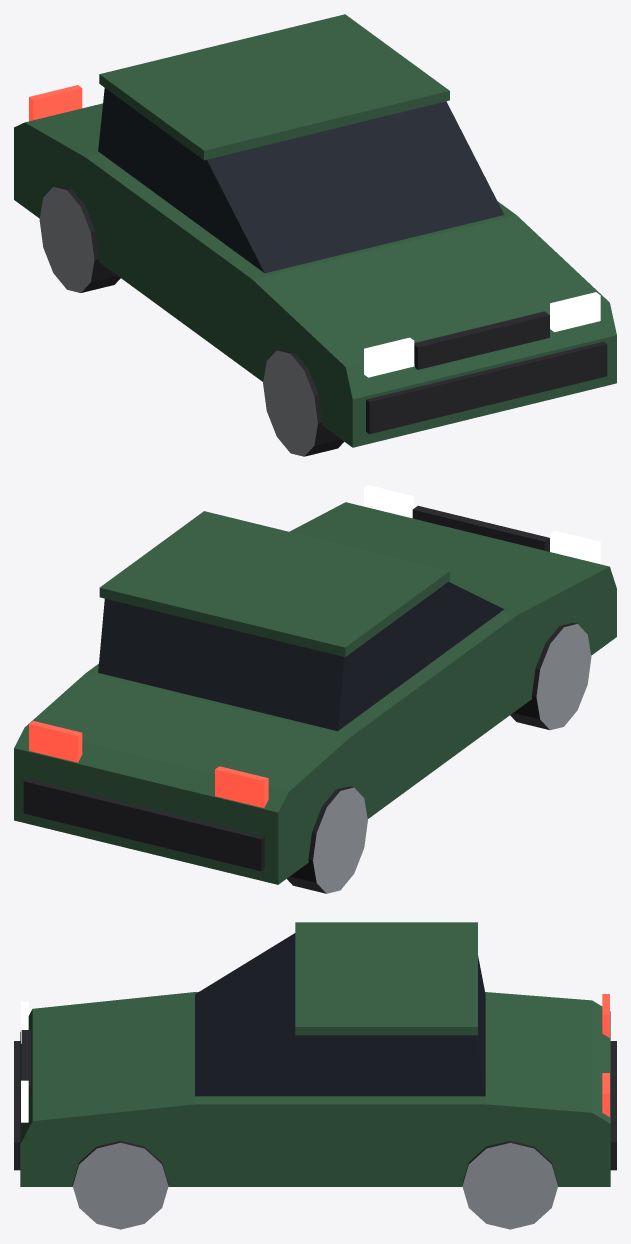
The model's file is hatchback.glb.
3 views of the same model, one above another, from view 1: azimuth 30°, elevation 25°; view 2: azimuth 150°, elevation 25°; view 3: azimuth 270°, elevation 25° (orthographic). The views are drawn at different scales.
Visible parts, largest first — view 1: hatchback, wheel_FR, wheel_RR; view 2: hatchback, wheel_RR, wheel_FR; view 3: hatchback, wheel_FL, wheel_RL.
Boxes of the visible parts, x1,y1,x2,y2 form: hatchback: (14, 14, 616, 447); wheel_FR: (263, 349, 343, 456); wheel_RR: (39, 185, 120, 292); hatchback: (14, 485, 616, 884); wheel_RR: (287, 786, 367, 893); wheel_FR: (510, 623, 591, 730); hatchback: (14, 922, 616, 1186); wheel_FL: (72, 1141, 168, 1229); wheel_RL: (462, 1141, 558, 1229).
Bounding box in the file's own units: 1.78 × 1.41 × 3.9.
